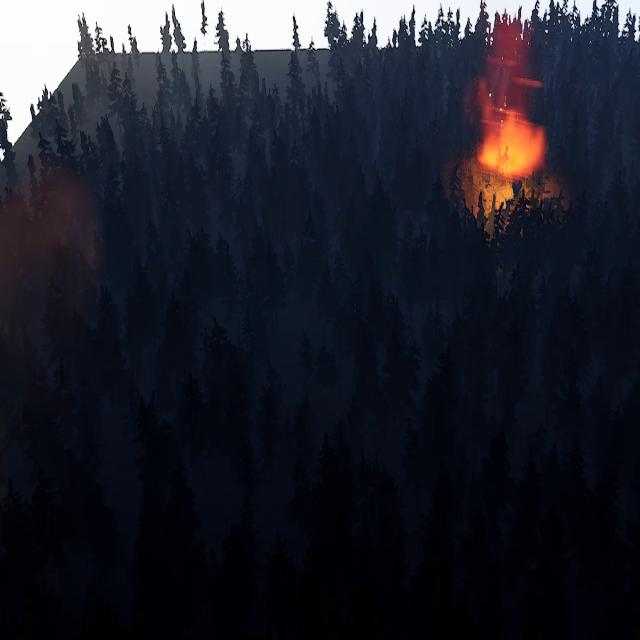fire: (478, 105, 545, 178)
smoke: (1, 147, 100, 319), (473, 17, 540, 112)
